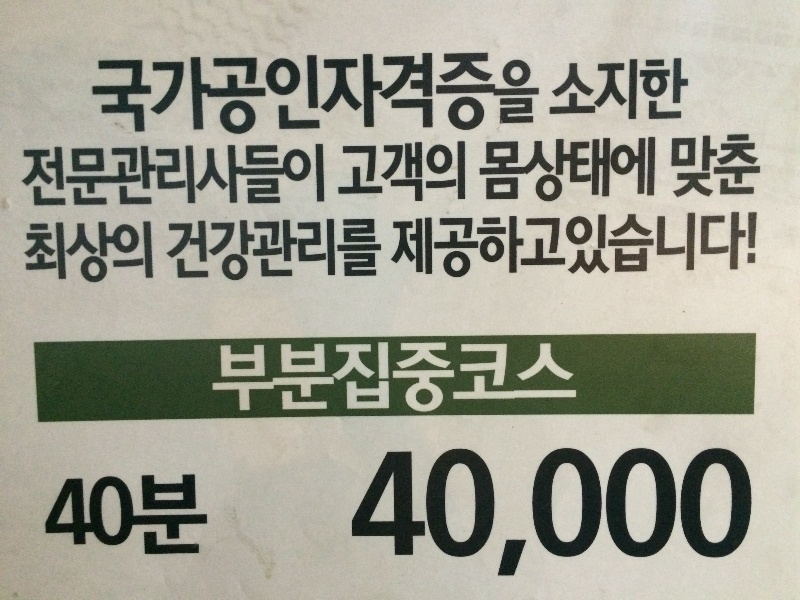text: (385, 448, 400, 581), (401, 448, 416, 581), (417, 448, 432, 581), (433, 448, 448, 581), (449, 448, 464, 581), (465, 448, 480, 581), (481, 448, 496, 581), (497, 448, 512, 581), (513, 448, 528, 581), (529, 448, 544, 581), (545, 448, 560, 581), (561, 448, 576, 581), (577, 448, 592, 581), (593, 448, 608, 581), (609, 448, 624, 581), (625, 448, 640, 581), (641, 448, 656, 581), (657, 448, 672, 581), (673, 448, 688, 581), (689, 448, 704, 581), (705, 448, 720, 581), (721, 448, 736, 581), (737, 448, 752, 581), (193, 471, 209, 557), (81, 471, 96, 557), (97, 471, 112, 557), (113, 471, 128, 557), (129, 471, 144, 557), (145, 471, 160, 557), (161, 471, 176, 557), (177, 471, 192, 557), (97, 50, 112, 136), (113, 50, 128, 136), (129, 50, 144, 136), (145, 50, 160, 136), (161, 50, 176, 136), (177, 50, 192, 136), (193, 50, 208, 136), (209, 50, 224, 136), (225, 50, 240, 136), (241, 50, 256, 136), (257, 50, 272, 136), (273, 50, 288, 136), (289, 50, 304, 136), (305, 50, 320, 136), (321, 50, 336, 136), (337, 50, 352, 136), (353, 50, 368, 136), (369, 50, 384, 136), (385, 50, 400, 136), (401, 50, 416, 136), (417, 50, 432, 136), (433, 50, 448, 136), (449, 50, 464, 136), (465, 50, 480, 136), (481, 50, 496, 136), (497, 50, 512, 136), (513, 50, 528, 136), (225, 339, 240, 422), (241, 339, 256, 422), (257, 339, 272, 422), (273, 339, 288, 422), (289, 339, 304, 422), (305, 339, 320, 422), (321, 339, 336, 422), (337, 339, 352, 422), (353, 339, 368, 422), (369, 339, 384, 422), (385, 339, 400, 422), (401, 339, 416, 422), (417, 339, 432, 422), (433, 339, 448, 422), (449, 339, 464, 422), (465, 339, 480, 422), (481, 339, 496, 422), (497, 339, 512, 422), (513, 339, 528, 422), (529, 339, 544, 422), (545, 339, 560, 422), (561, 339, 576, 422), (577, 339, 591, 422), (529, 50, 542, 136), (561, 52, 576, 123), (577, 52, 592, 123), (593, 52, 608, 123), (609, 52, 624, 123), (625, 52, 640, 123), (641, 52, 656, 123), (657, 52, 672, 123), (673, 52, 688, 123), (401, 210, 416, 280), (417, 210, 432, 280), (433, 210, 448, 280), (449, 210, 464, 280), (465, 210, 480, 280), (481, 210, 496, 280), (497, 210, 512, 280), (513, 210, 528, 280), (529, 210, 544, 280), (545, 210, 560, 280), (561, 210, 576, 280), (577, 210, 592, 280), (593, 210, 608, 280), (609, 210, 624, 280), (625, 210, 640, 280), (641, 210, 656, 280), (657, 210, 672, 280), (673, 210, 688, 280), (689, 210, 704, 280), (705, 210, 720, 280), (721, 210, 736, 280), (737, 210, 752, 280), (497, 133, 512, 203), (513, 133, 528, 203), (529, 133, 544, 203), (545, 133, 560, 203), (561, 133, 576, 203), (577, 133, 592, 203), (593, 133, 608, 203), (609, 133, 624, 203), (625, 133, 640, 203), (641, 133, 656, 203), (657, 133, 672, 203), (673, 133, 688, 203), (689, 133, 704, 203), (705, 133, 720, 203), (721, 133, 736, 203), (737, 133, 752, 203), (68, 471, 80, 557), (33, 219, 48, 286), (49, 219, 64, 286), (65, 219, 80, 286), (81, 219, 96, 286), (97, 219, 112, 286), (113, 219, 128, 286), (129, 219, 144, 286), (177, 217, 192, 284), (193, 217, 208, 284), (209, 217, 224, 284), (225, 217, 240, 284), (241, 217, 256, 284), (257, 217, 272, 284), (273, 217, 288, 284), (289, 217, 304, 284), (305, 217, 320, 284), (321, 217, 336, 284), (337, 217, 352, 284), (353, 217, 368, 284), (482, 133, 496, 203), (353, 140, 368, 205), (369, 140, 384, 205), (385, 140, 400, 205), (401, 140, 416, 205), (417, 140, 432, 205), (433, 140, 448, 205), (449, 140, 464, 205), (33, 143, 48, 207), (49, 143, 64, 207), (65, 143, 80, 207), (81, 143, 96, 207), (97, 143, 112, 207), (113, 143, 128, 207), (129, 143, 144, 207), (145, 143, 160, 207), (161, 143, 176, 207), (177, 143, 192, 207), (193, 143, 208, 207), (209, 143, 224, 207), (225, 143, 240, 207), (241, 143, 256, 207), (257, 143, 272, 207), (273, 143, 288, 207), (289, 143, 304, 207), (305, 143, 320, 207), (369, 217, 382, 284), (339, 140, 352, 205), (214, 339, 224, 422), (753, 133, 764, 203), (20, 143, 32, 207), (145, 219, 155, 286), (167, 217, 176, 284), (90, 50, 96, 136), (393, 210, 400, 280), (25, 219, 32, 286), (753, 210, 759, 280), (555, 52, 560, 123), (689, 52, 693, 123), (753, 448, 755, 581), (321, 143, 325, 207), (465, 140, 467, 205)
